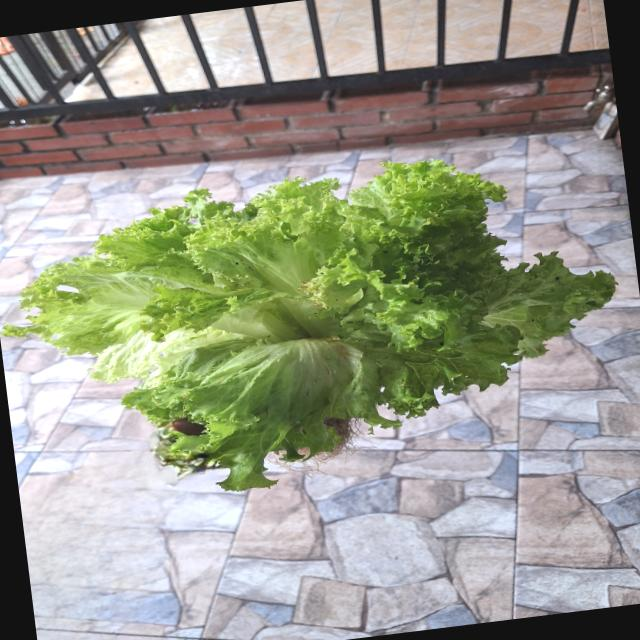lista_para_cosechar: (3, 160, 615, 491)
